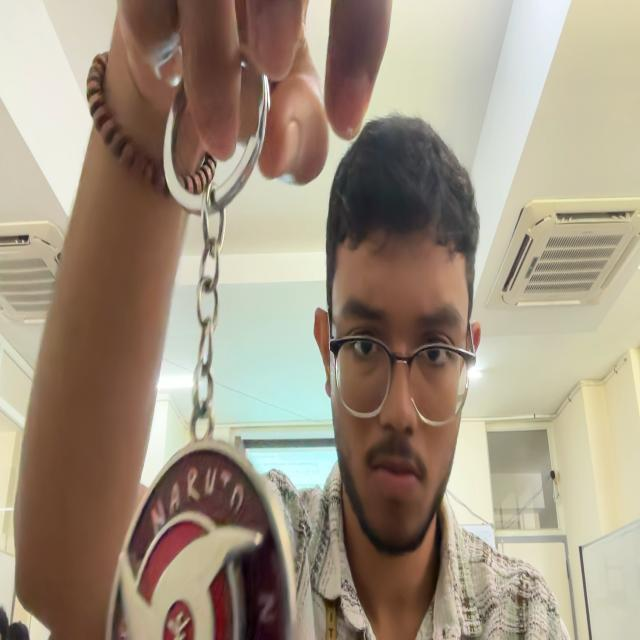dangerous: (106, 76, 297, 639)
